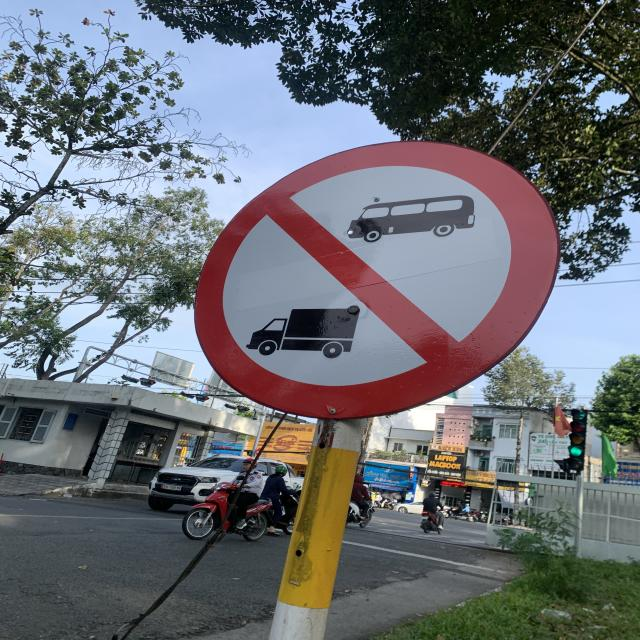Cam_XeTai_XeKhach: (194, 139, 564, 425)
